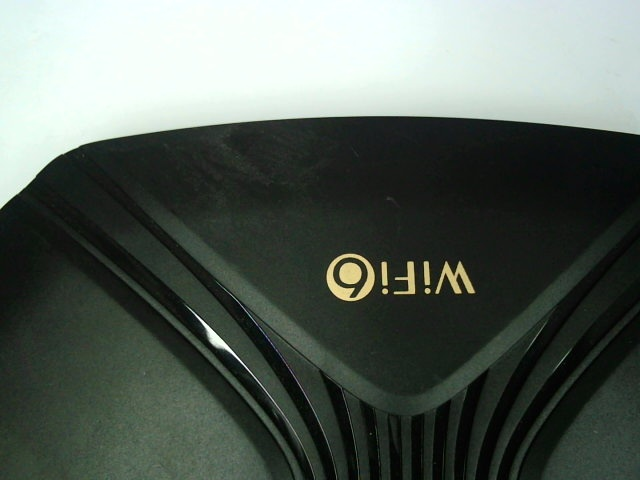AK_ZTEWIFI6Black: (308, 239, 485, 304)
